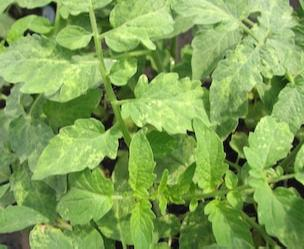Tomato leaf mosaic virus: (122, 70, 233, 134), (0, 34, 104, 101), (29, 118, 122, 183), (185, 16, 244, 87), (246, 178, 304, 249), (208, 47, 261, 124), (106, 0, 175, 55), (51, 172, 117, 228), (243, 112, 295, 183), (186, 117, 227, 194), (124, 127, 156, 196), (0, 201, 48, 237), (126, 198, 155, 249), (56, 26, 92, 52)
